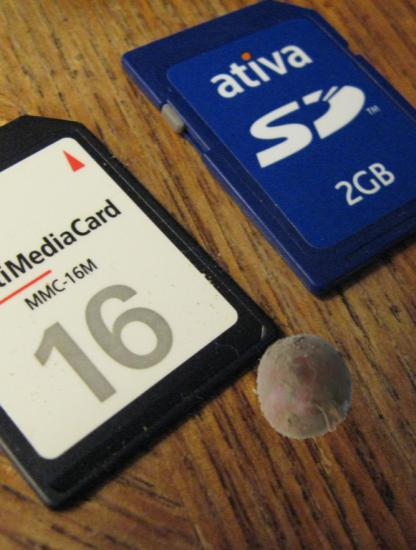Potato: (249, 331, 359, 441)
